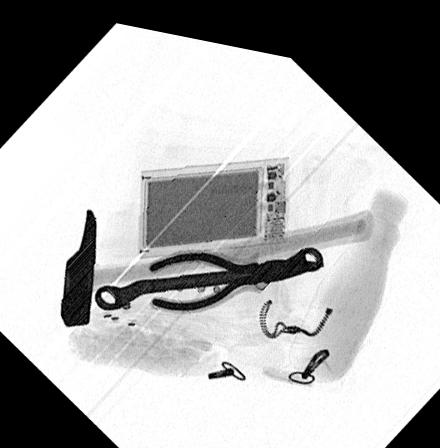Hammer: (58, 192, 376, 323)
Pliers: (146, 240, 326, 306)
Powerbank: (138, 143, 289, 252)
Wrench: (93, 231, 324, 306)
